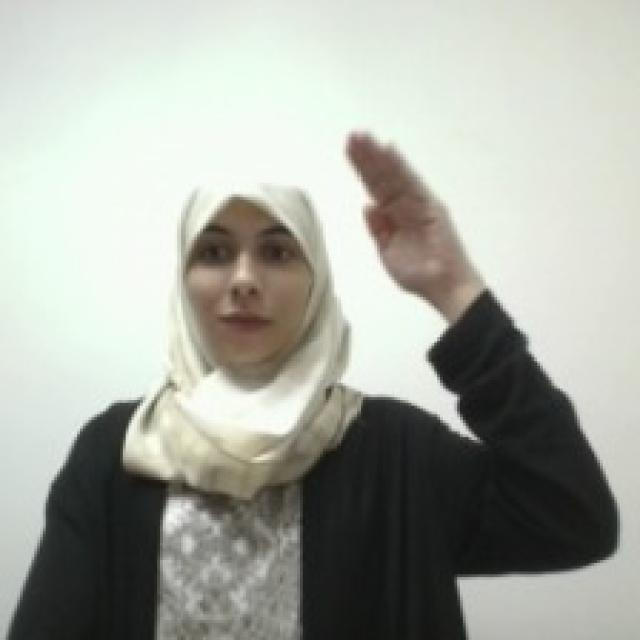Thanks: (341, 123, 464, 297)
